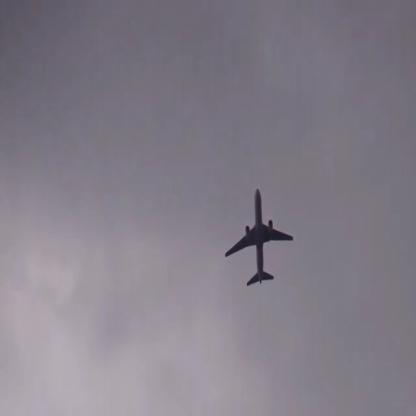CIV_Plane: (223, 186, 294, 284)
